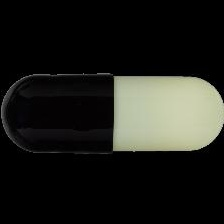16714-439: (0, 0, 224, 224)
